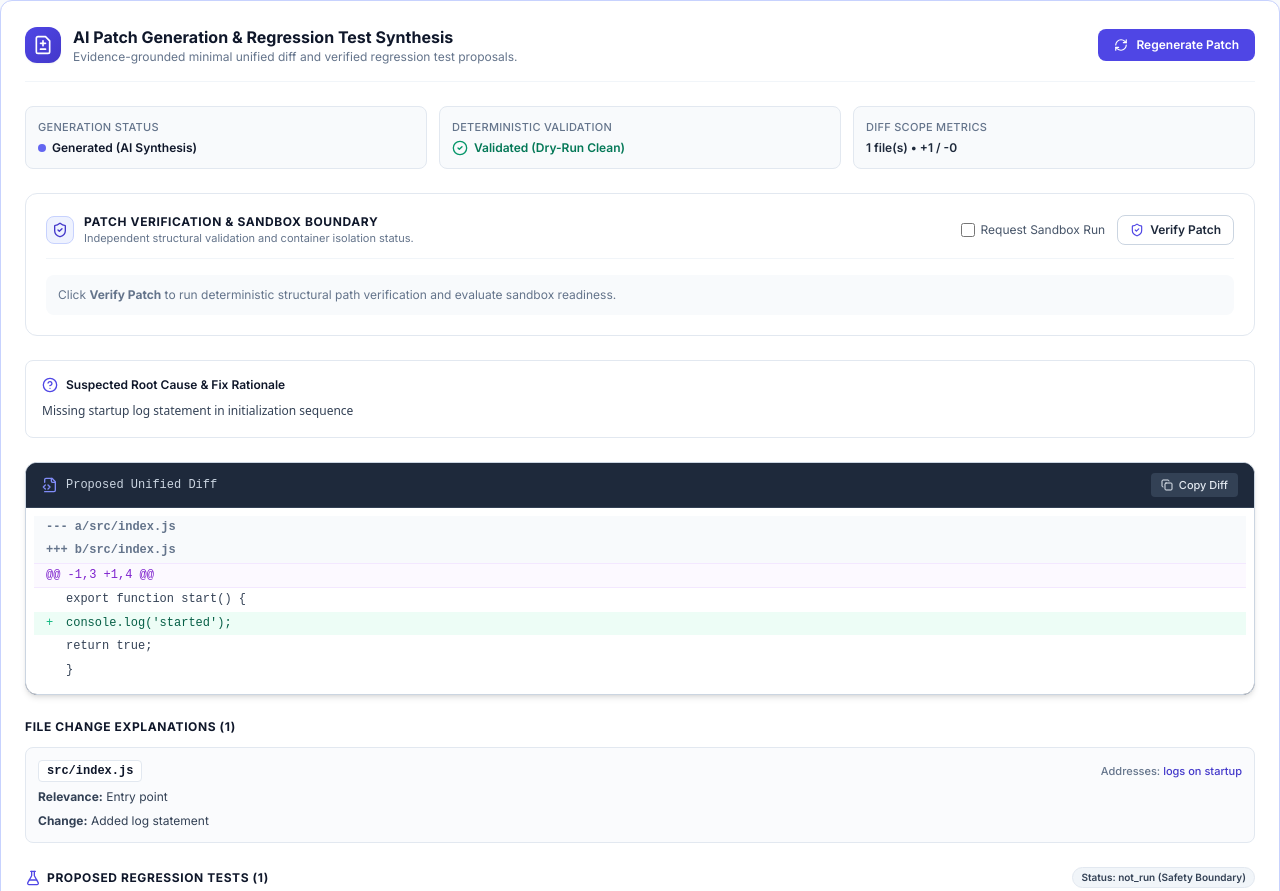
Test: PatchReviewCard Frontend Component › handles sandbox execution request gracefully returning sandbox_unavailable
Click the checkbox labelled "Request Sandbox Run" at (968, 230), box [960,223,974,237]
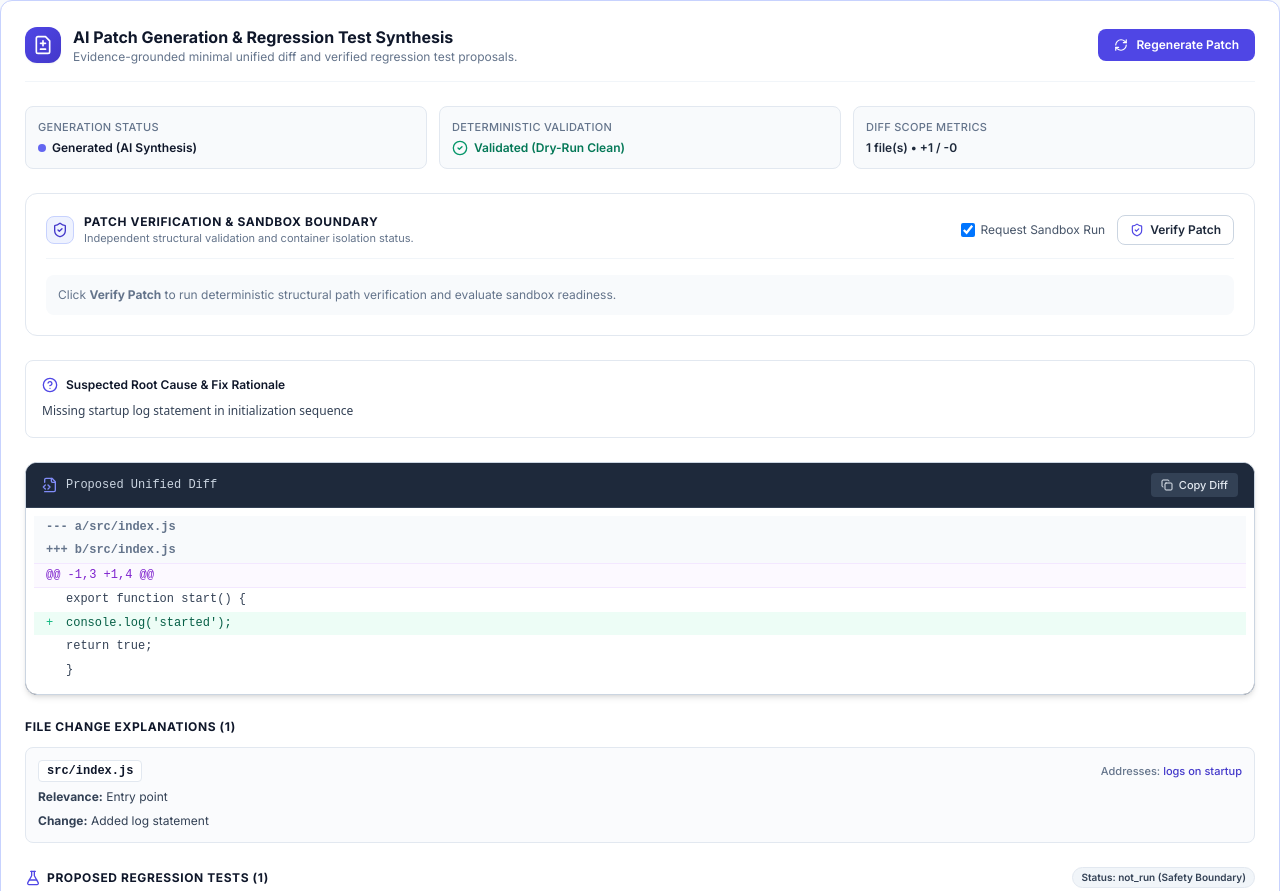
Click the button "Verify Patch" at (1176, 230), box [1117,215,1234,245]
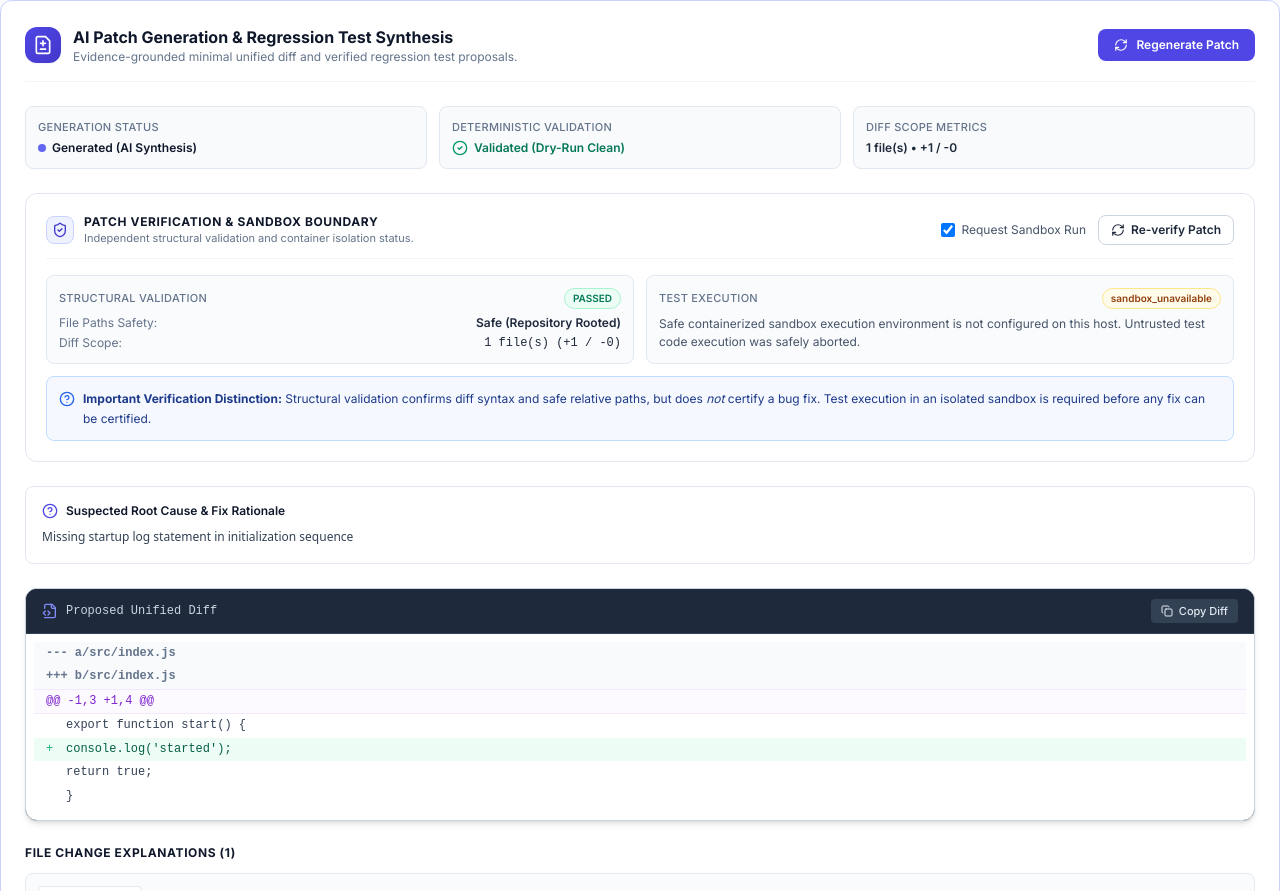
Now the text "sandbox_unavailable" is shown, box [1102,288,1221,309]
Now the text "Safe containerized sandbox execution environment is not configured" is shown, box [659,316,1205,349]
